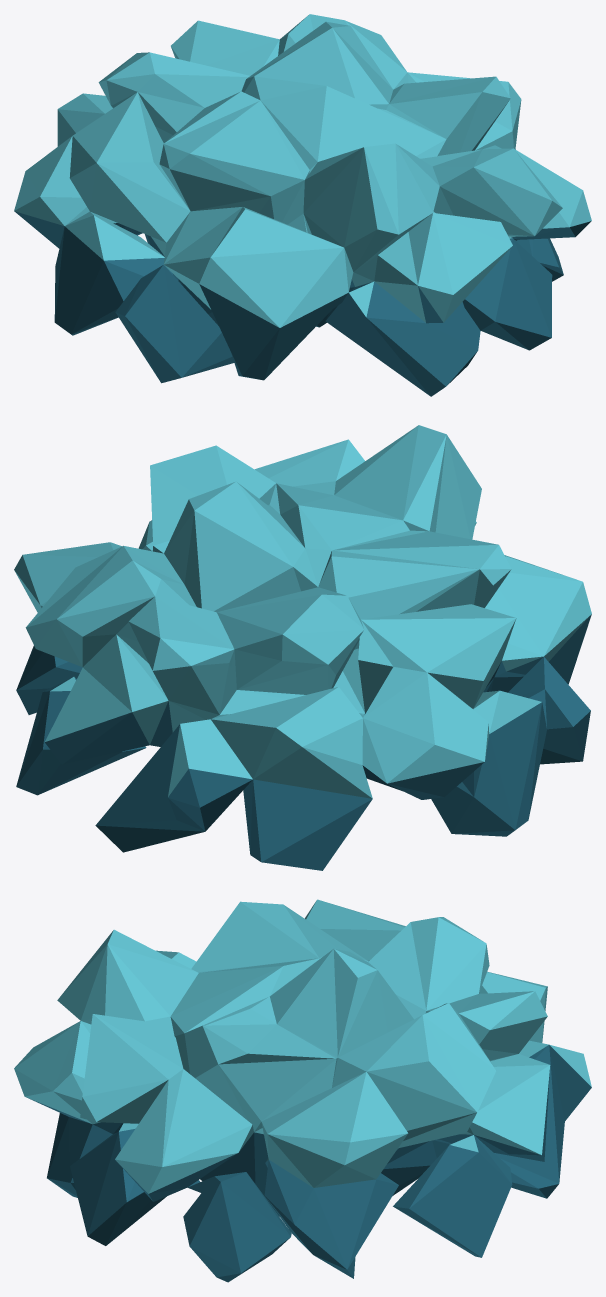
The model's file is crystal-2.glb.
3 views of the same model, one above another, from view 1: azimuth 30°, elevation 25°; view 2: azimuth 150°, elevation 25°; view 3: azimuth 270°, elevation 25° (orthographic). The views are drawn at different scales.
Visible parts, largest first — view 1: output_unwrapped; view 2: output_unwrapped; view 3: output_unwrapped.
Part boxes in pixels (<box>): output_unwrapped: <box>14,14,591,396</box>; output_unwrapped: <box>14,425,591,870</box>; output_unwrapped: <box>14,899,591,1282</box>.
Bounding box in the file's own units: 1.29 × 0.7047 × 1.4.
